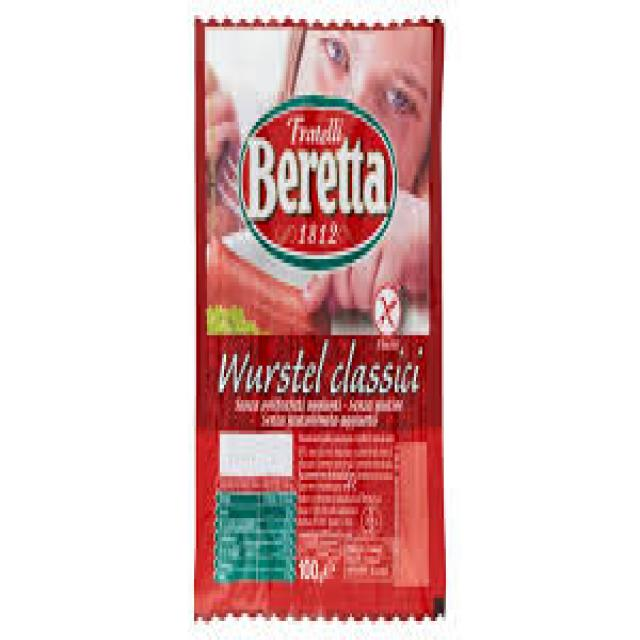Ham: (194, 19, 446, 625)
